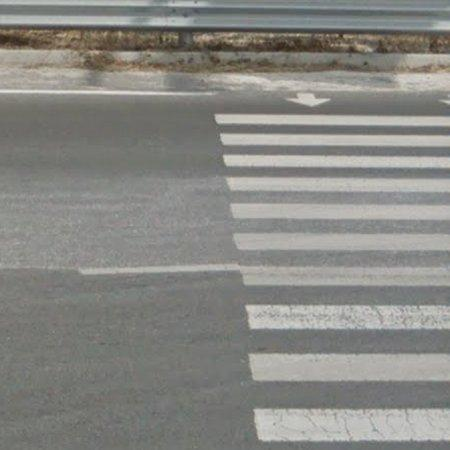crosswalks: (215, 116, 450, 444)
